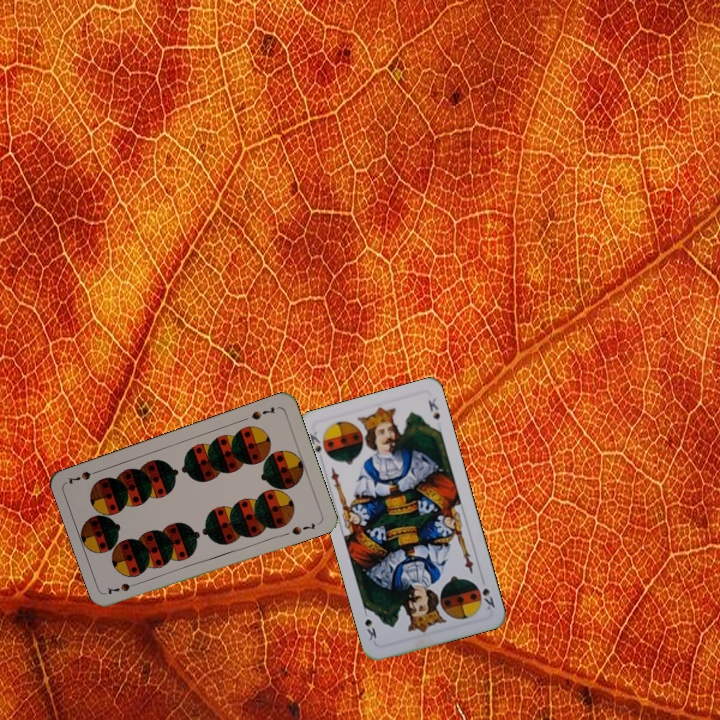S7: (247, 402, 277, 422), (116, 577, 143, 594)
SK: (473, 581, 498, 613), (305, 427, 324, 456)
